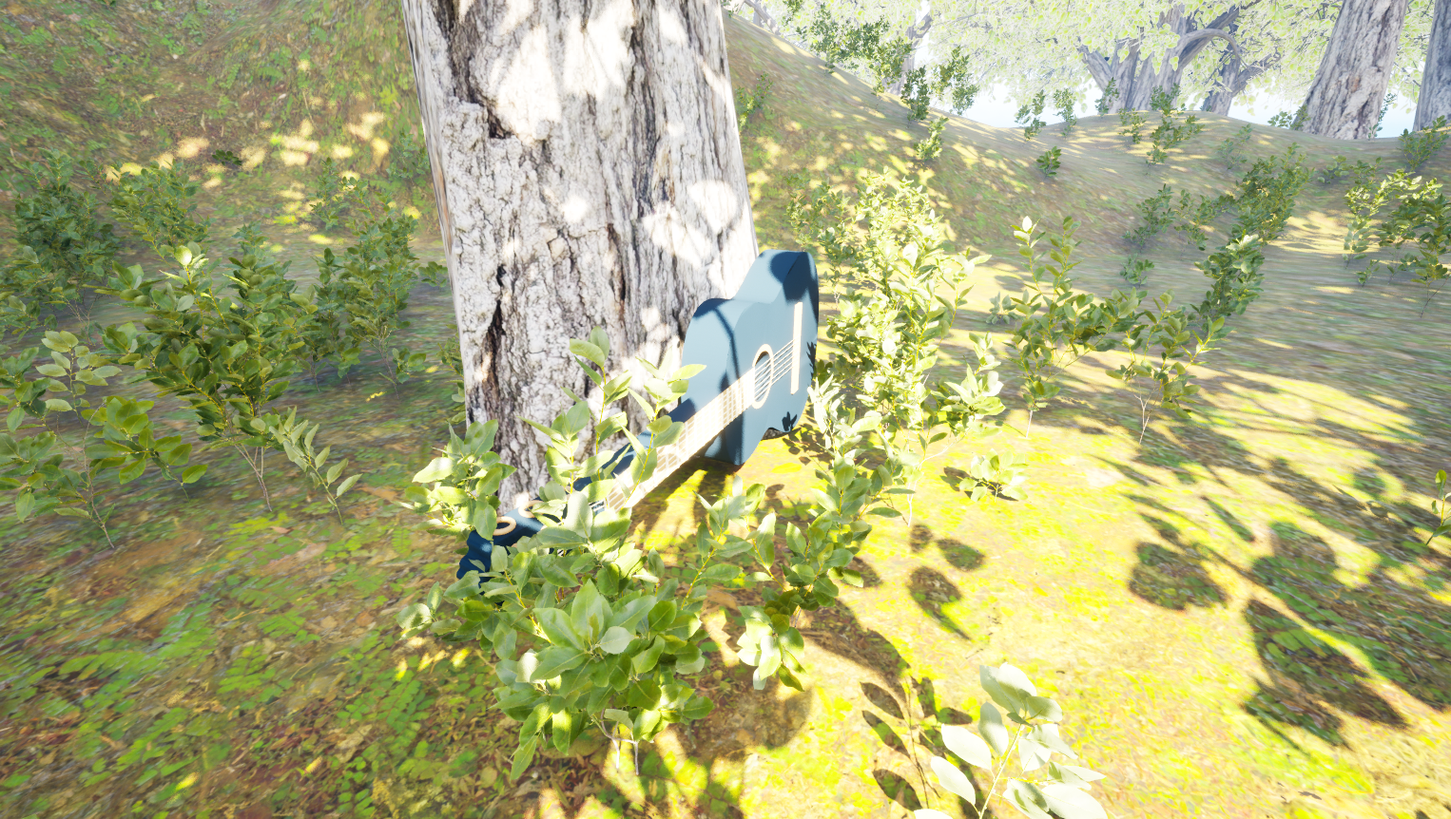Guitar: (393, 241, 827, 747)
